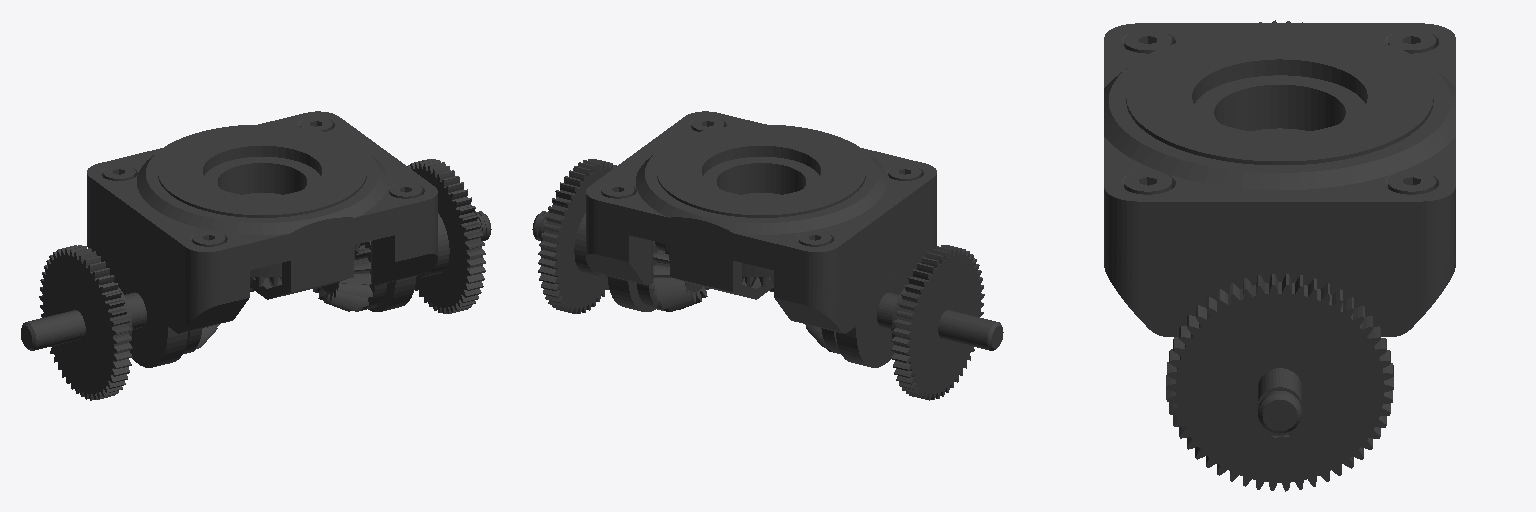
URDF robot description (full_geometry):
<?xml version="1.0" encoding="utf-8"?>
<!-- This URDF was automatically created by SolidWorks to URDF Exporter! Originally created by [author] ([email redacted]) 
     Commit Version: 1.6.0-1-g15f4949  Build Version: 1.6.7594.29634
     For more information, please see http://wiki.ros.org/sw_urdf_exporter -->
<robot
  name="full_geometry">
  <link
    name="base_link">
    <inertial>
      <origin
        xyz="0.043934 0.06035 0.070386"
        rpy="0 0 0" />
      <mass
        value="0.35291" />
      <inertia
        ixx="0.0003254"
        ixy="3.9578E-07"
        ixz="2.8883E-06"
        iyy="0.0004041"
        iyz="1.6475E-07"
        izz="0.00040678" />
    </inertial>
    <visual>
      <origin
        xyz="0 0 0"
        rpy="0 0 0" />
      <geometry>
        <mesh
          filename="package://full_geometry/meshes/base_link.STL" />
      </geometry>
      <material
        name="">
        <color
          rgba="0.75294 0.75294 0.75294 1" />
      </material>
    </visual>
    <collision>
      <origin
        xyz="0 0 0"
        rpy="0 0 0" />
      <geometry>
        <mesh
          filename="package://full_geometry/meshes/base_link.STL" />
      </geometry>
    </collision>
  </link>
  <link
    name="pitch_link">
    <inertial>
      <origin
        xyz="1.5557E-05 0.0066616 -0.00013792"
        rpy="0 0 0" />
      <mass
        value="0.039657" />
      <inertia
        ixx="3.3195E-06"
        ixy="8.0677E-10"
        ixz="-1.6754E-10"
        iyy="5.9864E-06"
        iyz="1.8267E-10"
        izz="3.7559E-06" />
    </inertial>
    <visual>
      <origin
        xyz="0 0 0"
        rpy="0 0 0" />
      <geometry>
        <mesh
          filename="package://full_geometry/meshes/pitch_link.STL" />
      </geometry>
      <material
        name="">
        <color
          rgba="0.29804 0.29804 0.29804 1" />
      </material>
    </visual>
    <collision>
      <origin
        xyz="0 0 0"
        rpy="0 0 0" />
      <geometry>
        <mesh
          filename="package://full_geometry/meshes/pitch_link.STL" />
      </geometry>
    </collision>
  </link>
  <joint
    name="pitch"
    type="revolute">
    <origin
      xyz="0.096806 0.060005 0.15025"
      rpy="1.5708 0 1.5708" />
    <parent
      link="base_link" />
    <child
      link="pitch_link" />
    <axis
      xyz="0 0 1" />
    <limit
      lower="0"
      upper="0"
      effort="0"
      velocity="0" />
  </joint>
  <link
    name="yaw_pitch">
    <inertial>
      <origin
        xyz="0.010212 -0.02023 0.03871"
        rpy="0 0 0" />
      <mass
        value="0.17072" />
      <inertia
        ixx="6.5188E-05"
        ixy="8.0682E-06"
        ixz="-8.0047E-07"
        iyy="9.0376E-05"
        iyz="5.6188E-07"
        izz="0.00012972" />
    </inertial>
    <visual>
      <origin
        xyz="0 0 0"
        rpy="0 0 0" />
      <geometry>
        <mesh
          filename="package://full_geometry/meshes/yaw_pitch.STL" />
      </geometry>
      <material
        name="">
        <color
          rgba="0.77647 0.75686 0.73725 1" />
      </material>
    </visual>
    <collision>
      <origin
        xyz="0 0 0"
        rpy="0 0 0" />
      <geometry>
        <mesh
          filename="package://full_geometry/meshes/yaw_pitch.STL" />
      </geometry>
    </collision>
  </link>
  <joint
    name="yaw"
    type="revolute">
    <origin
      xyz="0 0 0"
      rpy="-1.5708 0 0" />
    <parent
      link="pitch_link" />
    <child
      link="yaw_pitch" />
    <axis
      xyz="0 0 -1" />
    <limit
      lower="0"
      upper="0"
      effort="0"
      velocity="0" />
  </joint>
  <link
    name="extension_link">
    <inertial>
      <origin
        xyz="0.0037892 -0.07262 0.0066716"
        rpy="0 0 0" />
      <mass
        value="0.13248" />
      <inertia
        ixx="0.00015884"
        ixy="-6.501E-08"
        ixz="-4.6699E-08"
        iyy="0.00012513"
        iyz="-2.127E-05"
        izz="4.3022E-05" />
    </inertial>
    <visual>
      <origin
        xyz="0 0 0"
        rpy="0 0 0" />
      <geometry>
        <mesh
          filename="package://full_geometry/meshes/extension_link.STL" />
      </geometry>
      <material
        name="">
        <color
          rgba="0.49804 0.49804 0.49804 1" />
      </material>
    </visual>
    <collision>
      <origin
        xyz="0 0 0"
        rpy="0 0 0" />
      <geometry>
        <mesh
          filename="package://full_geometry/meshes/extension_link.STL" />
      </geometry>
    </collision>
  </link>
  <joint
    name="extension"
    type="prismatic">
    <origin
      xyz="0 4E-05 -0.050079"
      rpy="-1.5708 0 -1.5708" />
    <parent
      link="yaw_pitch" />
    <child
      link="extension_link" />
    <axis
      xyz="0 0 1" />
    <limit
      lower="0"
      upper="0"
      effort="0"
      velocity="0" />
  </joint>
</robot>

--- Render facts (derived) ---
3 views of the same robot in one strip: view 1: azimuth 30°, elevation 25°; view 2: azimuth 150°, elevation 25°; view 3: azimuth 270°, elevation 25° (orthographic).
Robot: full_geometry — 4 links, 3 joints (2 revolute, 1 prismatic); root link base_link; default pose: every joint at zero.
Visible links, largest first — view 1: pitch_link; view 2: pitch_link; view 3: pitch_link.
Link boxes in pixels (x1,y1,x2,y2): pitch_link: (21,111,491,400); pitch_link: (532,111,1003,400); pitch_link: (1104,20,1455,491).
Bounding box of the posed robot: 0.0885 × 0.04 × 0.033 m (x, y, z).
Meshes: 4 distinct files referenced, 1 mesh visuals loaded (1 binary STL); not drawn: 3 (reference not matched to a file when rendering).